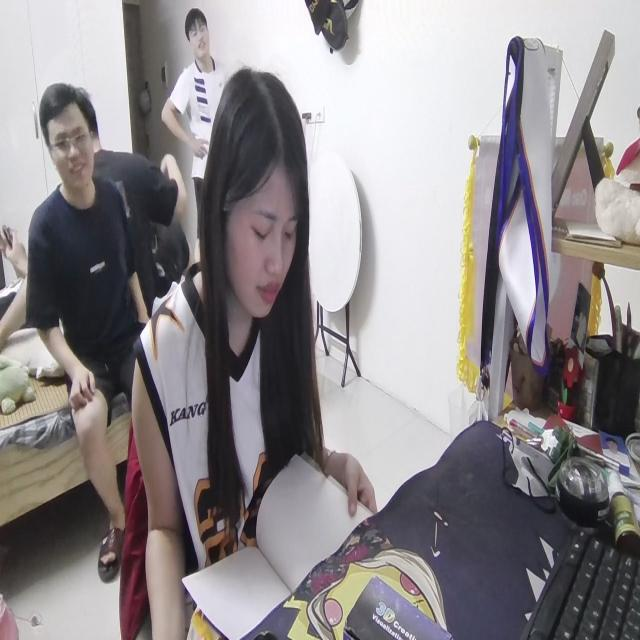book: (176, 446, 372, 628)
extra_person: (20, 79, 154, 518), (164, 11, 225, 240)
student: (133, 68, 379, 640)
